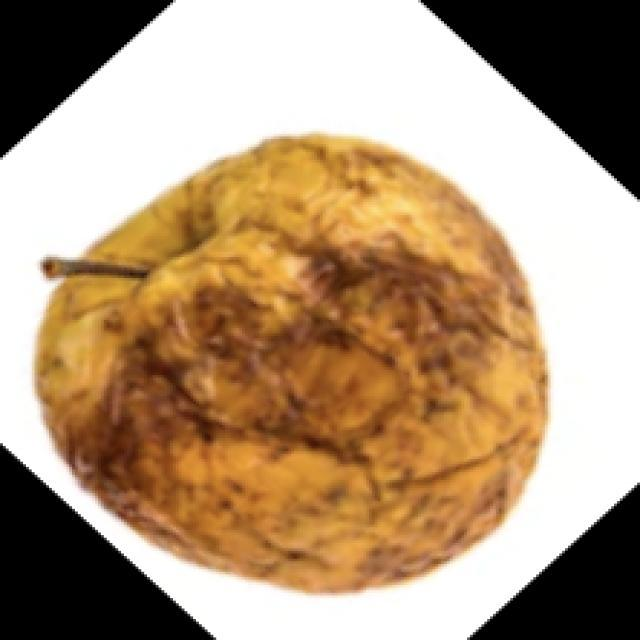Rotten: (30, 142, 557, 610)
